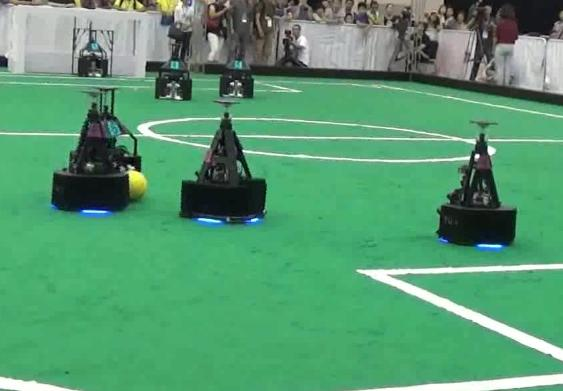robot: (45, 86, 146, 212), (179, 91, 270, 224), (434, 116, 523, 250), (215, 38, 256, 101), (152, 39, 192, 102), (77, 25, 109, 78)
